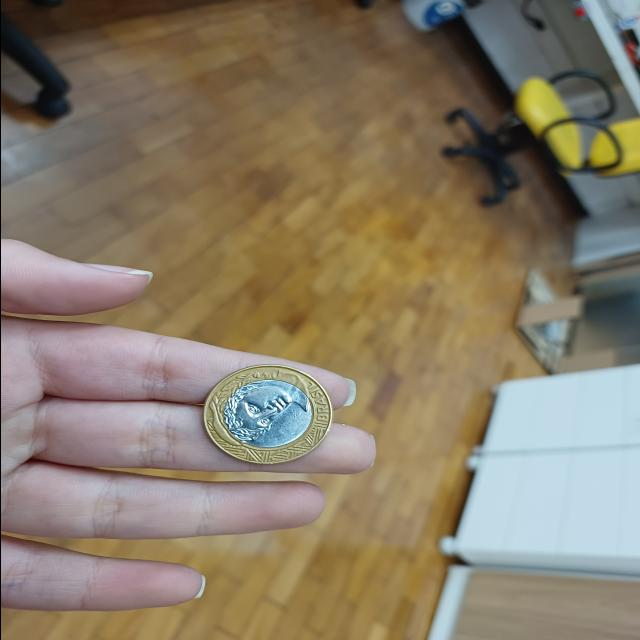1 real: (200, 363, 336, 473)
